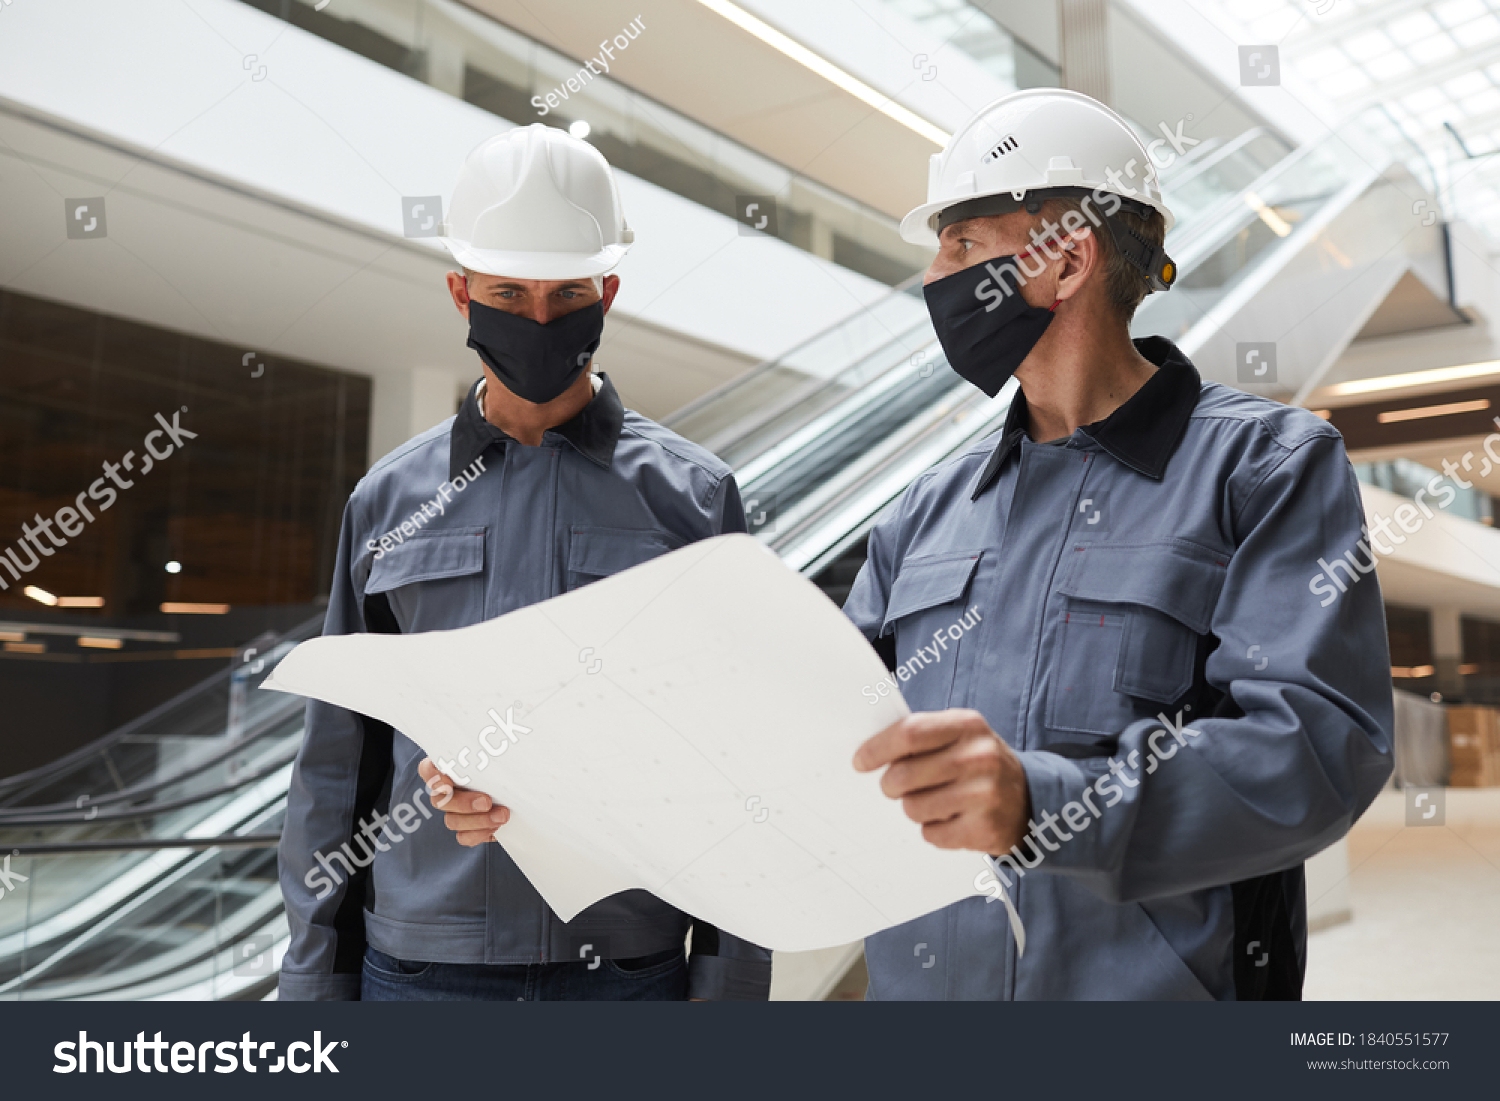Helmet: (889, 75, 1198, 253), (434, 117, 641, 299)
Mask: (906, 240, 1094, 405), (448, 291, 643, 408)
